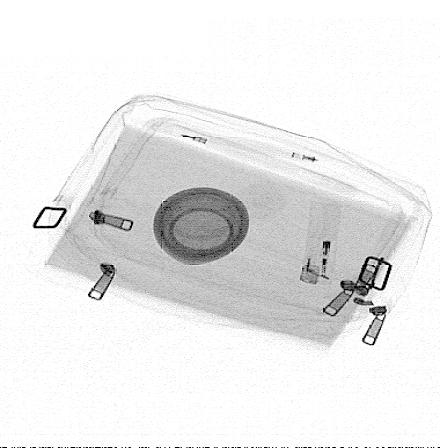Lighter: (299, 202, 342, 285)
